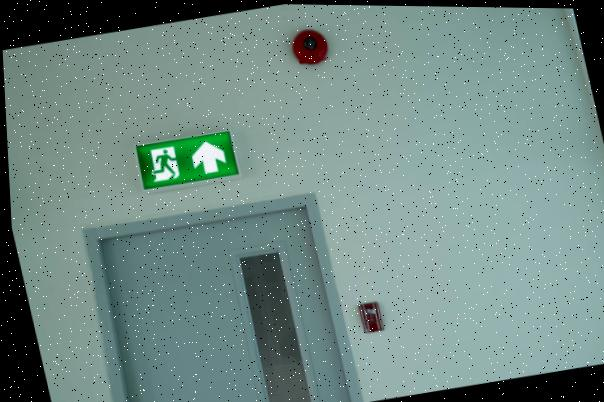emergency_exit: (135, 130, 240, 191)
